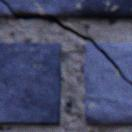brick: (0, 43, 62, 125)
broken_brick: (85, 43, 131, 124), (3, 0, 131, 19), (97, 43, 131, 82), (0, 2, 16, 18)
crack: (0, 0, 131, 84)
